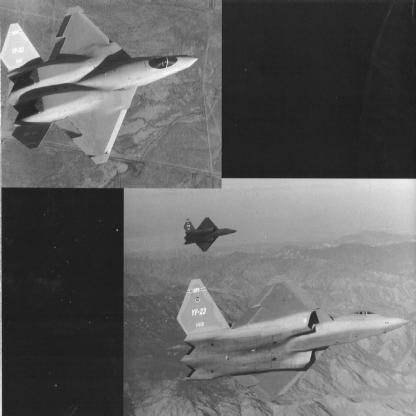YF23: (2, 7, 199, 166), (177, 275, 411, 404), (184, 218, 239, 254)
